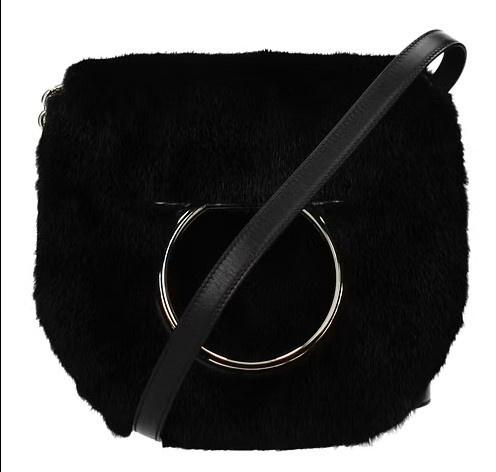FERRAGAMO: (139, 169, 356, 389)
